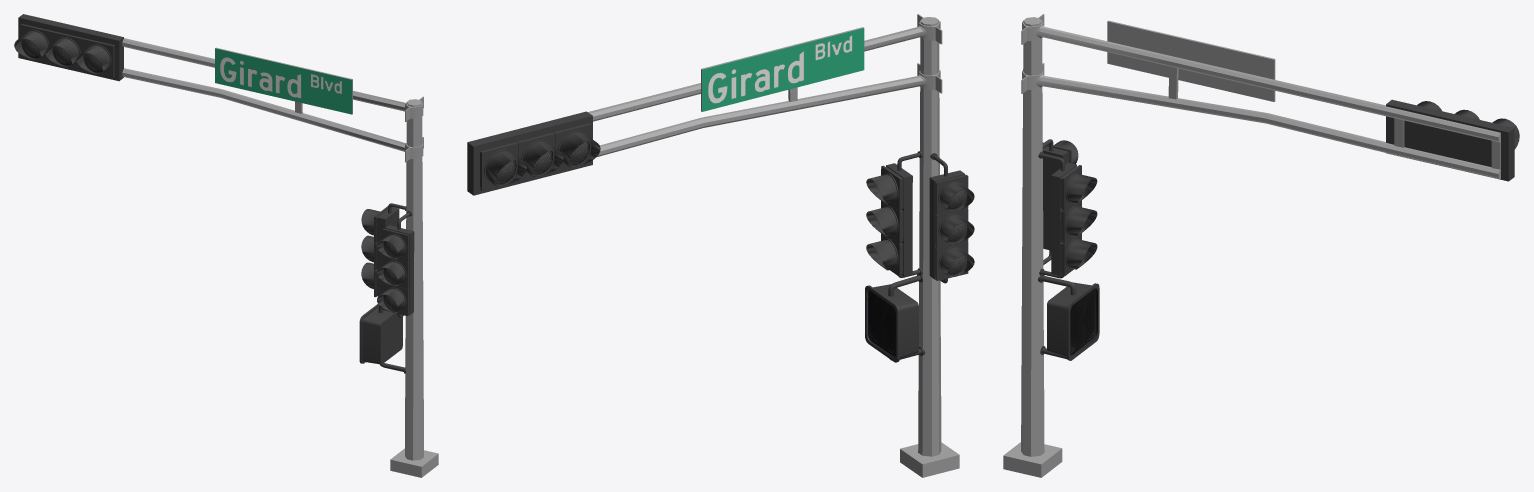
Rendered from Light7.fbx.
3 renders of one model, left to right at view 1: azimuth 90°, elevation 25°; view 2: azimuth 150°, elevation 25°; view 3: azimuth 270°, elevation 25°, orthographic. The views are drawn at different scales.
Parts seen in each view (by area): view 1: Traffic Lights.020; view 2: Traffic Lights.020; view 3: Traffic Lights.020.
Boxes of the visible parts, x1,y1,x2,y2 form: Traffic Lights.020: [14, 14, 438, 477]; Traffic Lights.020: [467, 14, 974, 477]; Traffic Lights.020: [1003, 14, 1519, 477].
Size of the model in its own units: 570 by 892 by 911.
